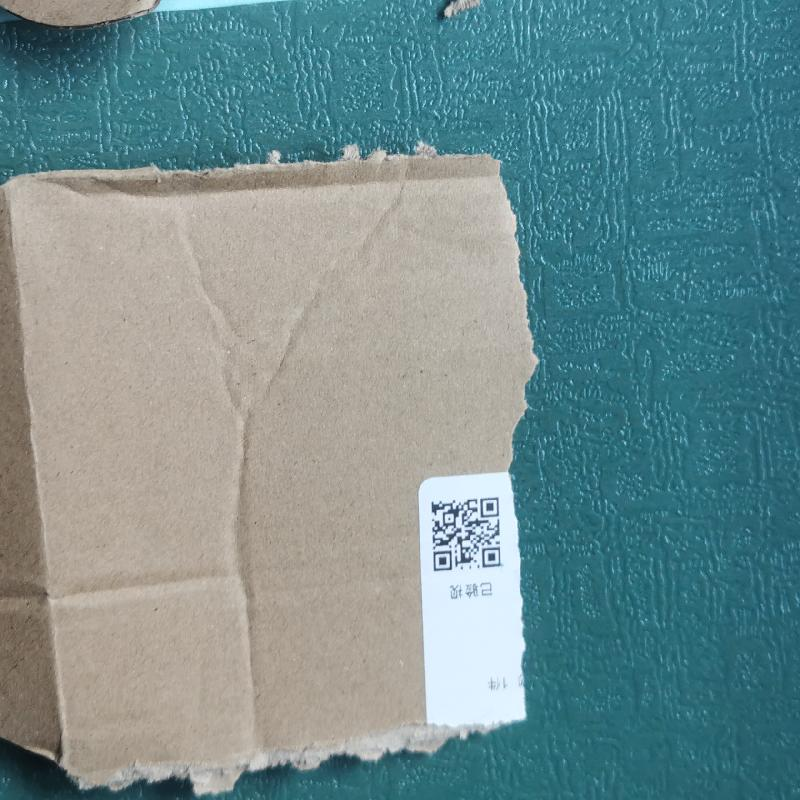boxes: (3, 132, 554, 788)
